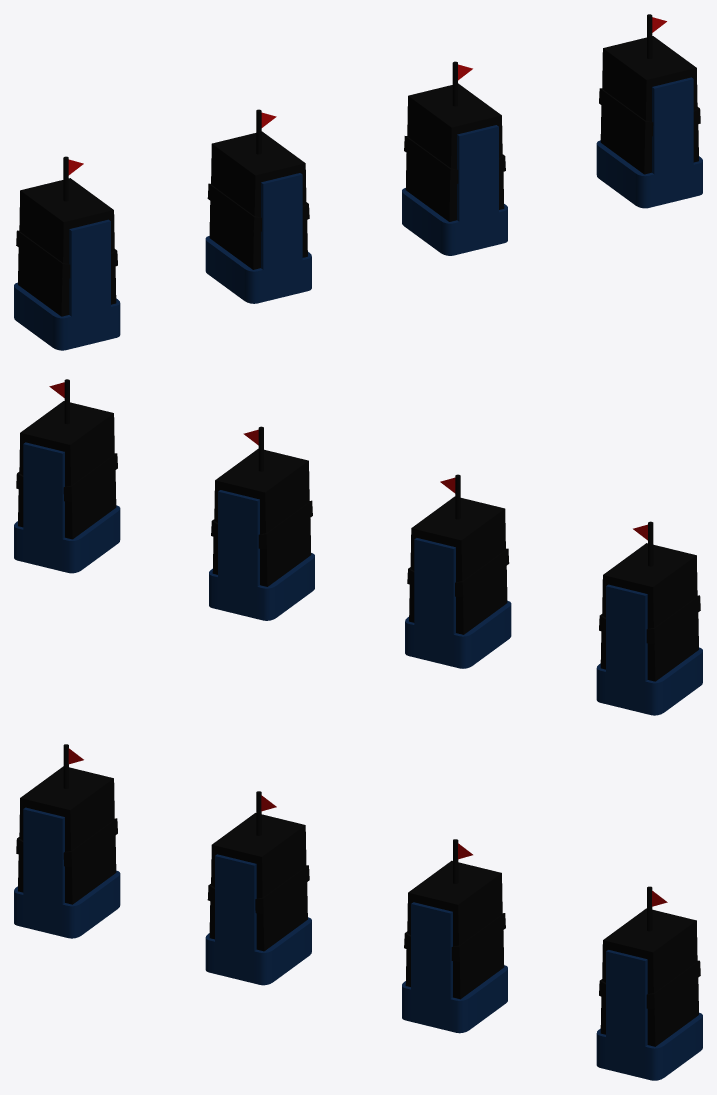
File: Level_2_Engeller.fbx
The picture shows the model from 3 angles, top to bottom: view 1: azimuth 30°, elevation 25°; view 2: azimuth 150°, elevation 25°; view 3: azimuth 330°, elevation 25°; orthographic projection.
Parts seen in each view (by area): view 1: Cube.012, Cube.011, Cube.004, Cube.021; view 2: Cube.012, Cube.011, Cube.004, Cube.021; view 3: Cube.011, Cube.012, Cube.004, Cube.021.
Boxes of the visible parts, box(x1,y1,x2,y2) form: Cube.012: box(205, 109, 311, 303); Cube.011: box(14, 156, 120, 350); Cube.004: box(596, 14, 702, 208); Cube.021: box(402, 61, 507, 255); Cube.012: box(405, 474, 511, 668); Cube.011: box(596, 521, 702, 715); Cube.004: box(14, 379, 120, 573); Cube.021: box(209, 426, 314, 620); Cube.011: box(14, 744, 120, 938); Cube.012: box(205, 791, 311, 985); Cube.004: box(596, 886, 702, 1080); Cube.021: box(402, 839, 507, 1033).
Size of the model in its own units: 609 by 151 by 78.63.
